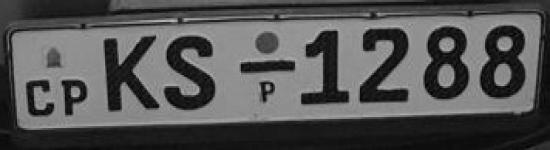-: (235, 55, 298, 78)
1: (298, 24, 353, 109)
2: (354, 23, 417, 110)
8: (417, 20, 475, 105), (476, 19, 530, 106)
C: (22, 75, 58, 121)
K: (100, 31, 163, 121)
P: (59, 72, 92, 124)
S: (162, 30, 222, 117)
